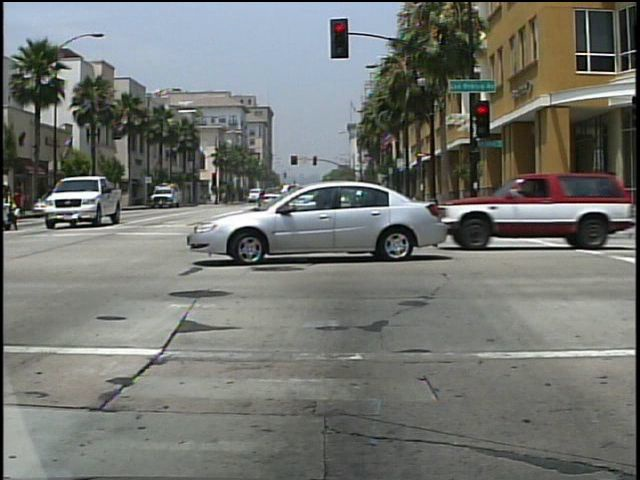person: (1, 178, 25, 232)
